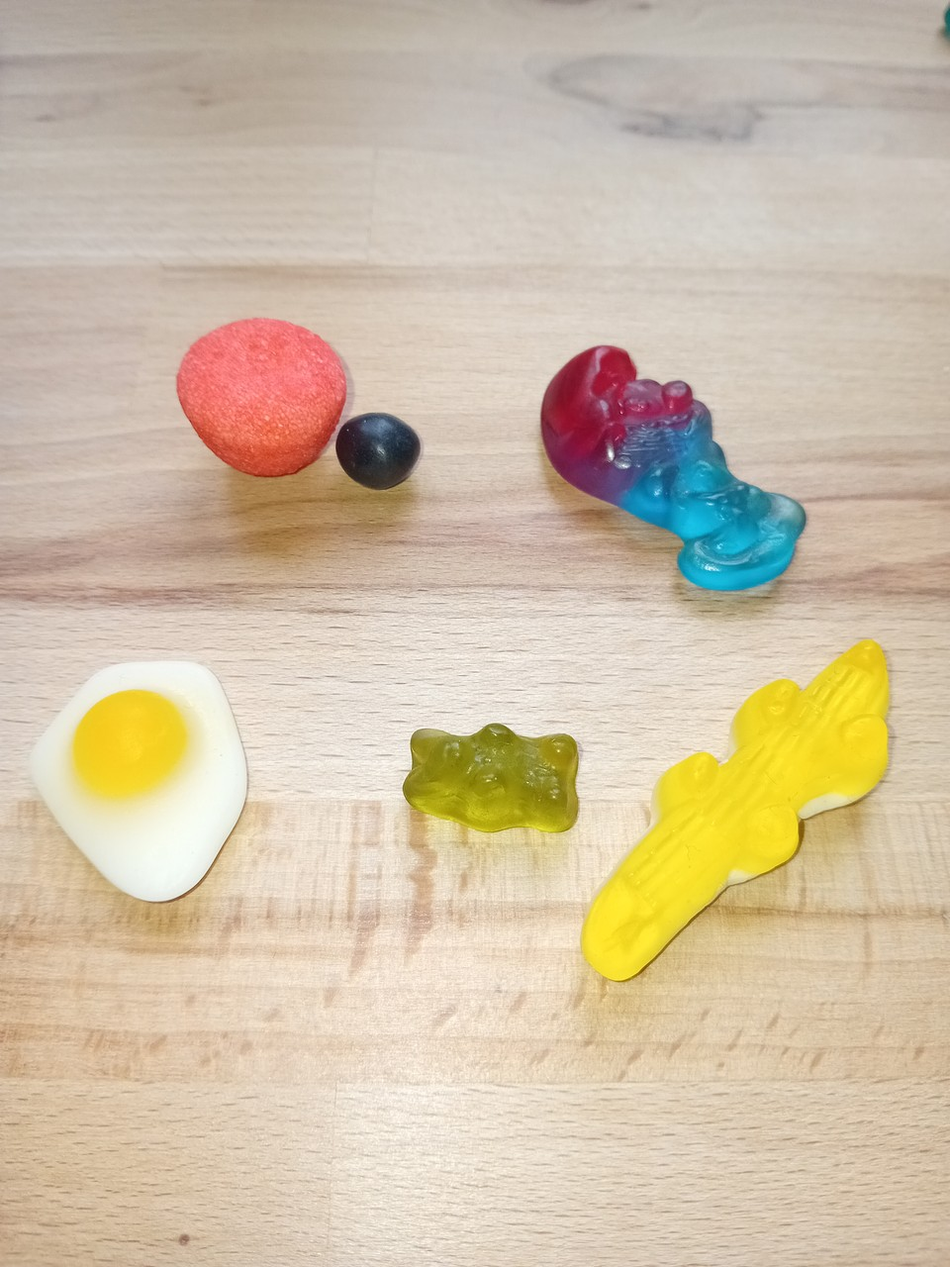crocodile_jaune: (572, 634, 896, 993)
dragibus_noir: (335, 409, 425, 491)
oeuf_oeuf: (22, 653, 263, 911)
ourson_vert: (398, 709, 590, 840)
schtroumpf_bleu-rouge: (534, 337, 815, 603)
tagada_fraise: (167, 317, 353, 486)
